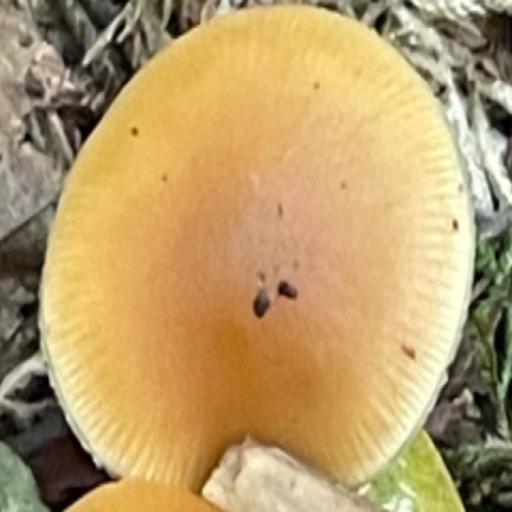mushroom: (41, 5, 476, 497)
